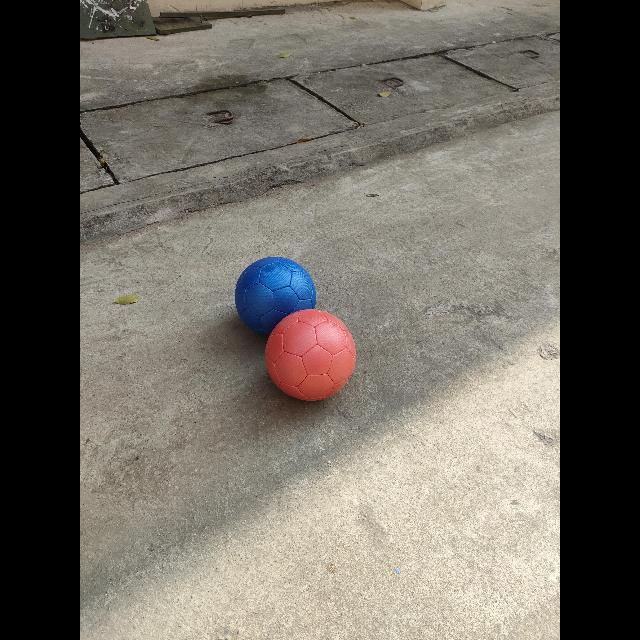B: (235, 256, 316, 336)
R: (265, 309, 356, 400)
